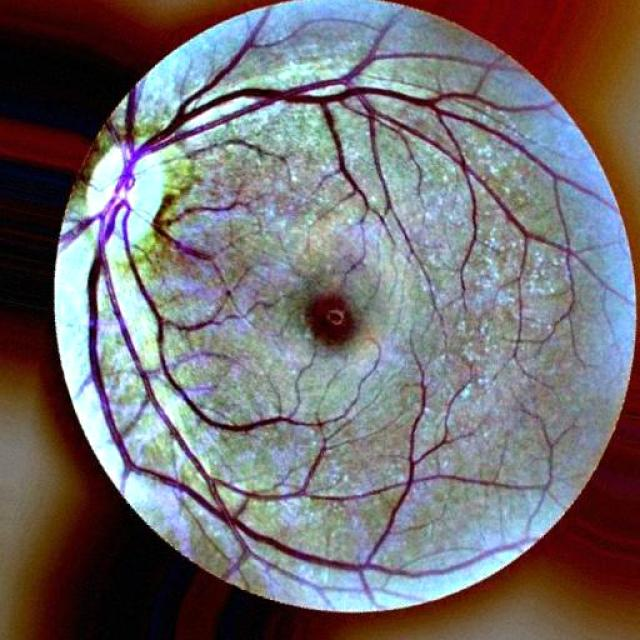Macula: (286, 277, 377, 370)
Nerves: (82, 197, 484, 587), (112, 74, 519, 190), (127, 245, 363, 441), (142, 177, 261, 298)
Optic Disk: (76, 126, 184, 262)
